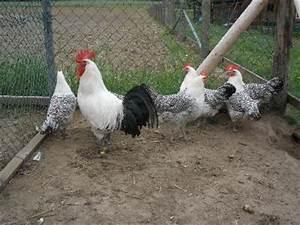hen: (73, 47, 158, 155)
